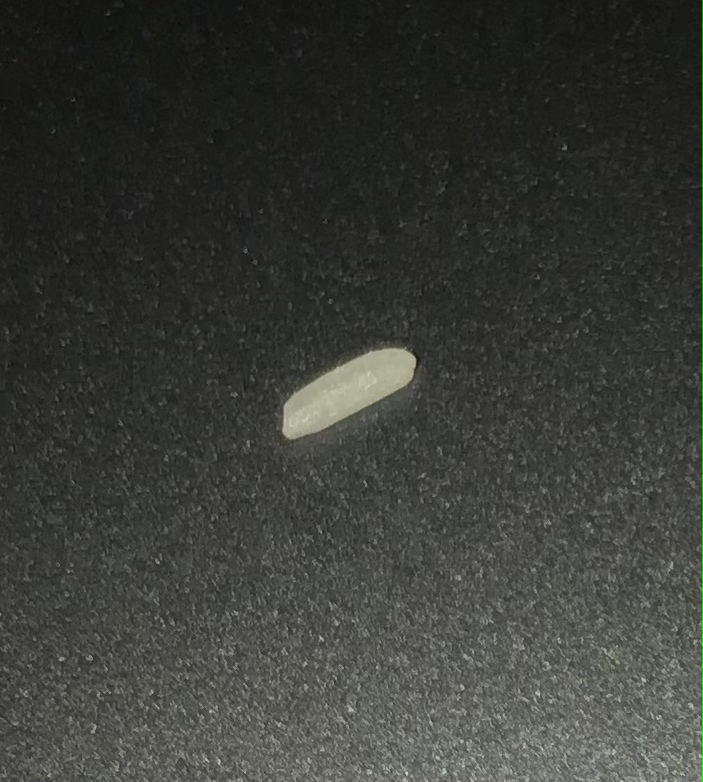Gao Tam Thom: (272, 325, 433, 453)
